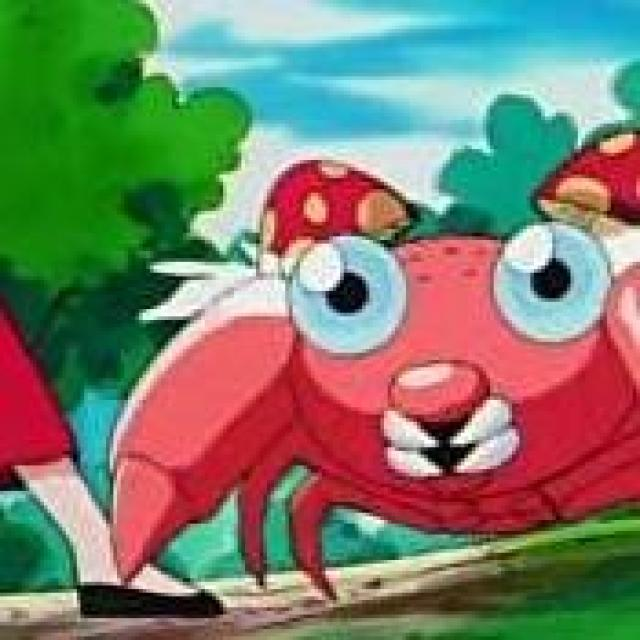Paras: (185, 153, 640, 537)
